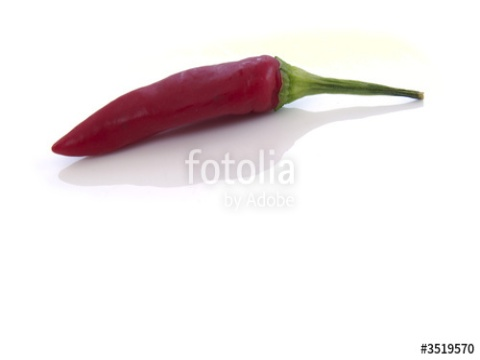Chilli: (38, 46, 435, 167)
